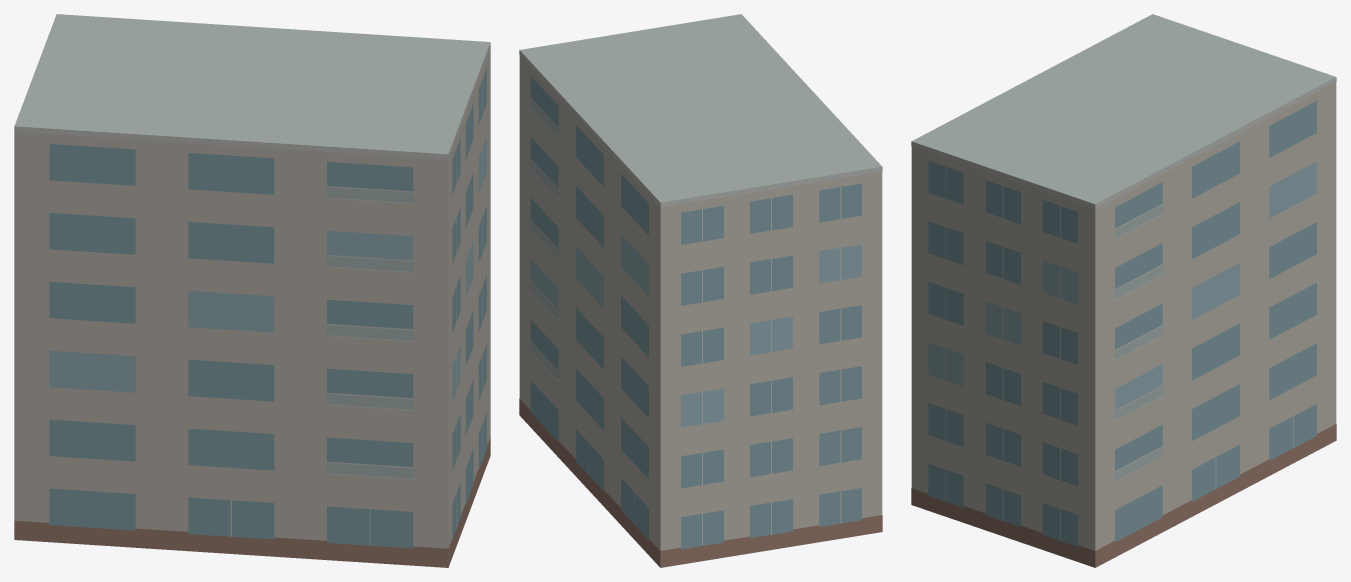
The model's file is survey-upis-32867535.glb.
3 views of the same model, side by side, from view 1: azimuth 30°, elevation 25°; view 2: azimuth 150°, elevation 25°; view 3: azimuth 270°, elevation 25° (orthographic). The views are drawn at different scales.
Visible parts, largest first — view 1: survey-upis-32867535.tmp; view 2: survey-upis-32867535.tmp; view 3: survey-upis-32867535.tmp.
Part boxes in pixels (x1,y1,x2,y2): survey-upis-32867535.tmp: (14,14,490,567); survey-upis-32867535.tmp: (519,14,882,567); survey-upis-32867535.tmp: (911,14,1336,567).
Bounding box in the file's own units: 20.44 × 18.2 × 19.29.
